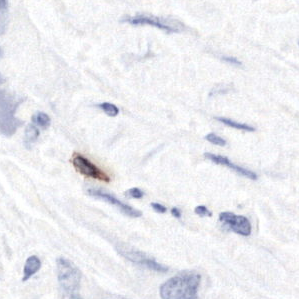Lymphocyte: (72, 154, 111, 182)
